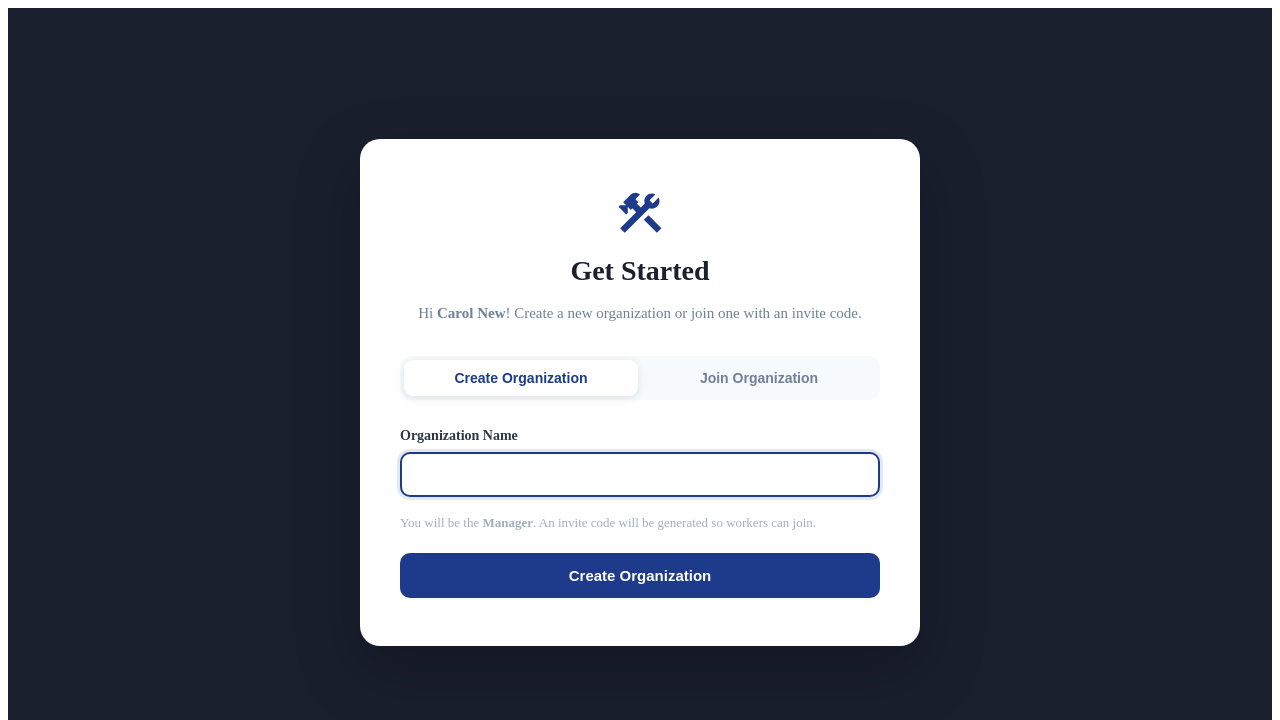
Scenario: ConstructFlow End-to-End Workflow › 5. Worker entering a valid invite code sees the trade role picker
This screenshot has width=1280, height=720.
Click the button "Join Organization" at coordinates (759, 378), box [642,360,876,396]
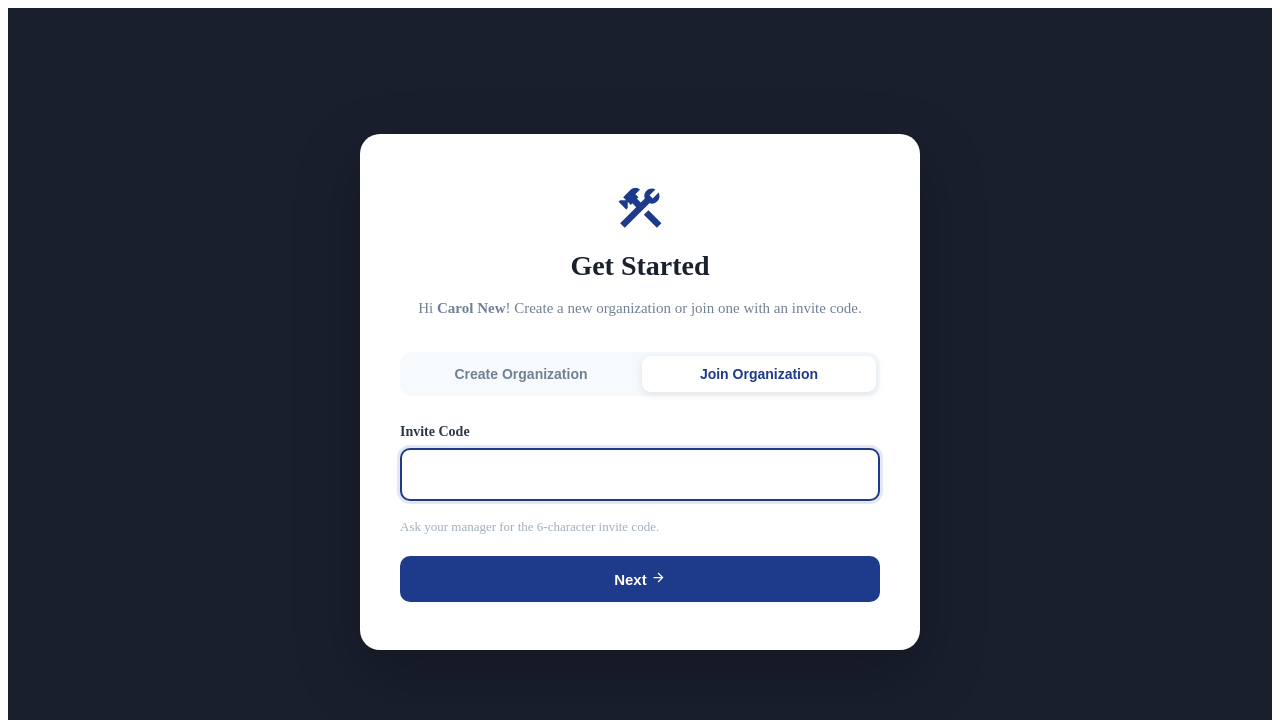
Type "VALID1" into the field at coordinates (640, 474), box [400,448,880,500]
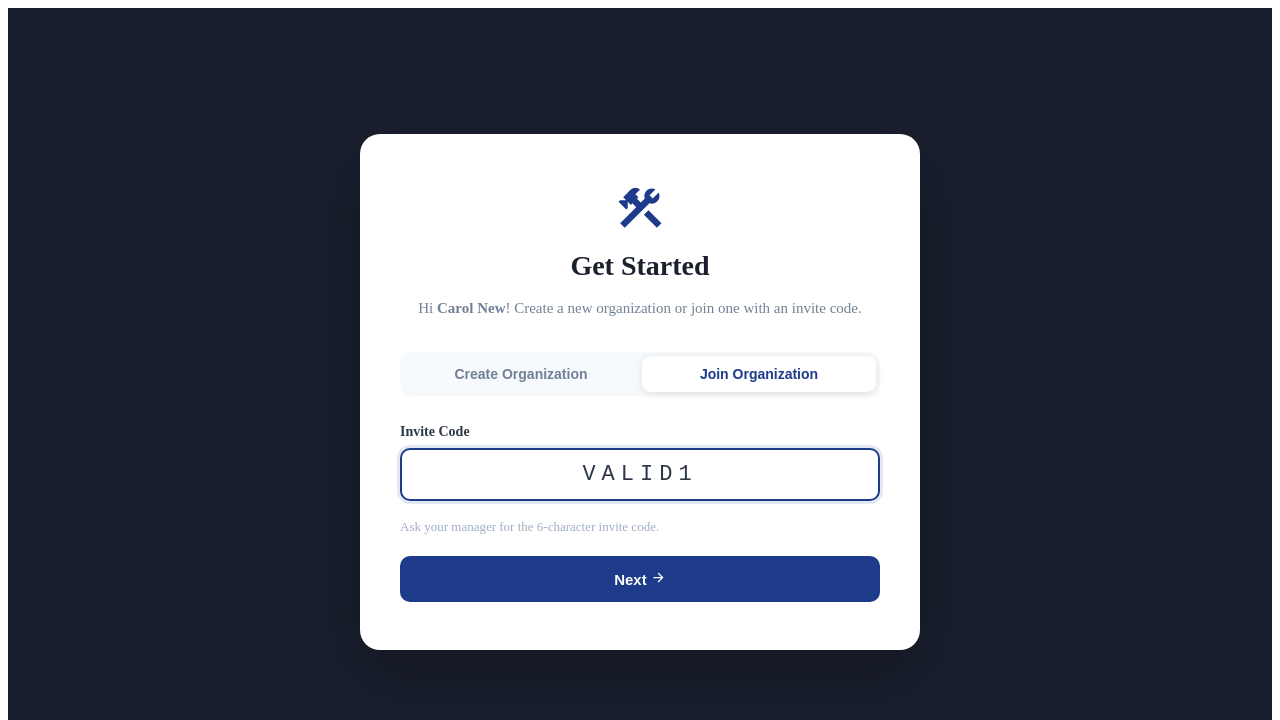
Click the button "Next" at coordinates (640, 579), box [400,556,880,602]
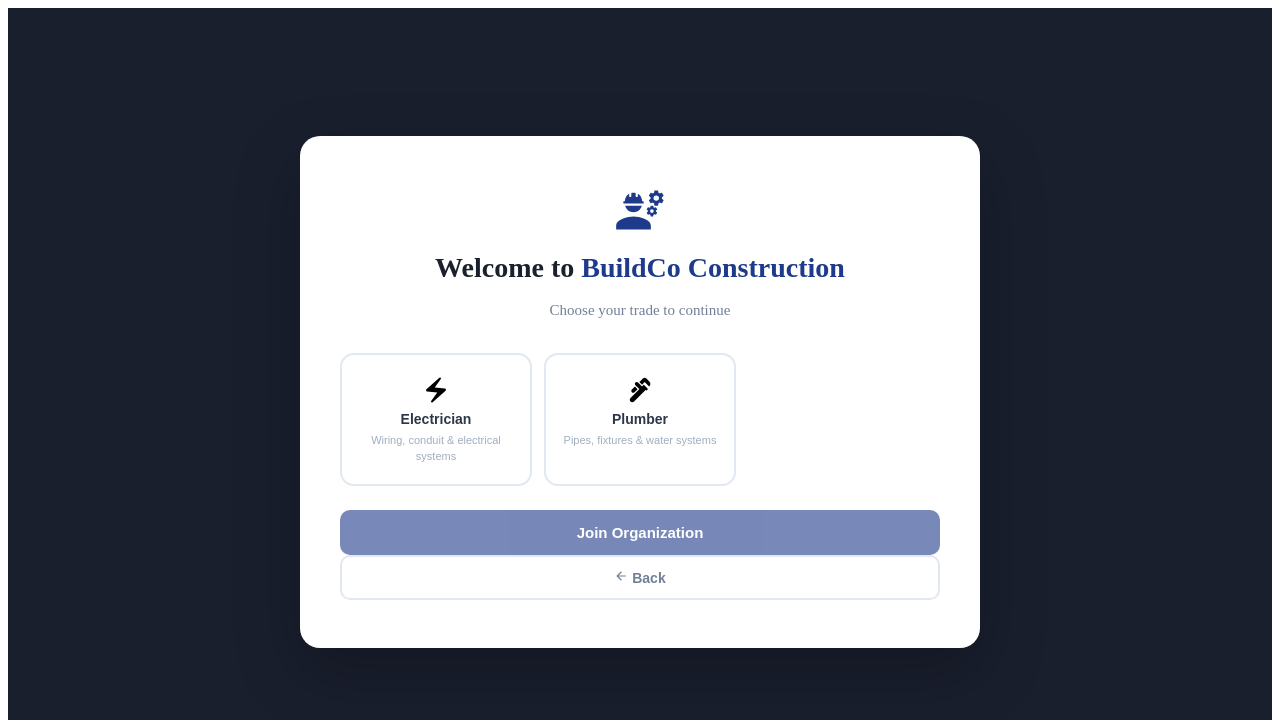
Expected: the text "BuildCo Construction" is shown, [581,252,845,283]
Expected: the text "Electrician" is shown, [401,411,471,427]
Expected: the text "Plumber" is shown, [612,411,668,427]
